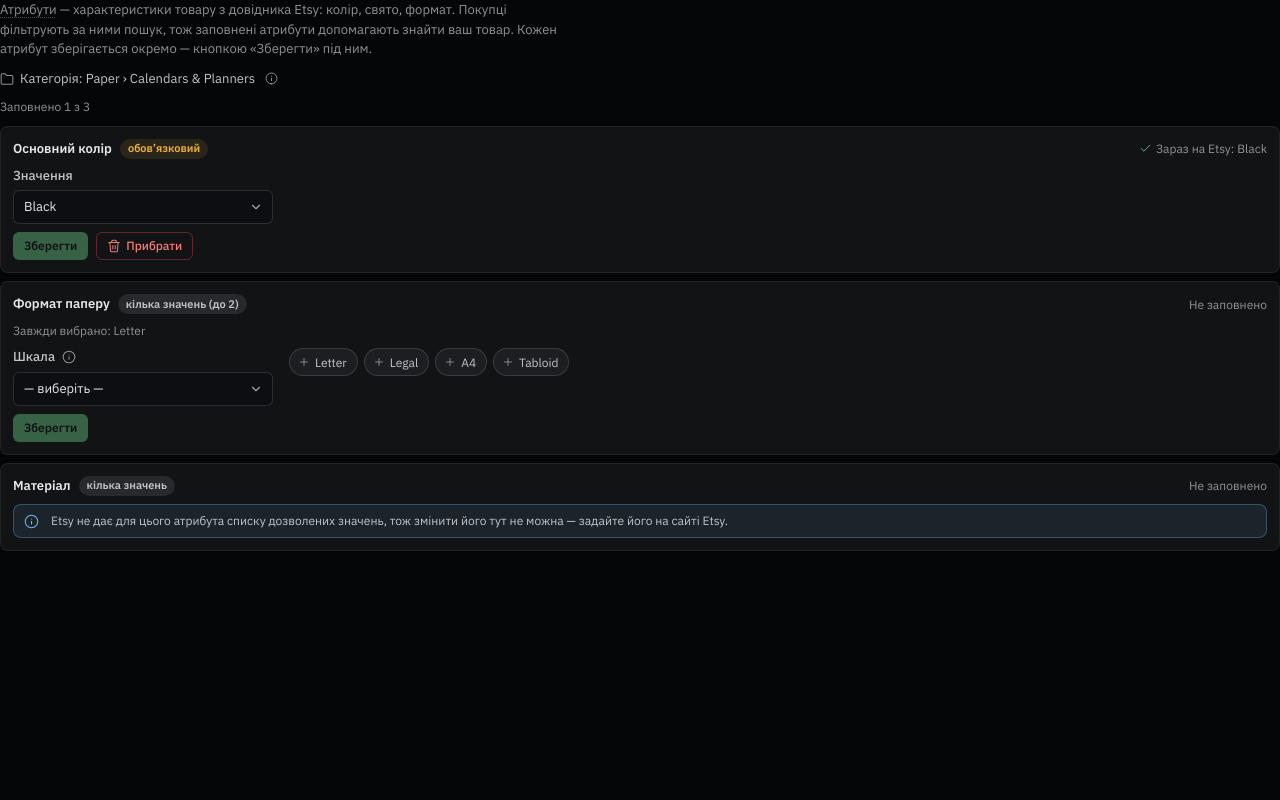
it: Атрибути › "Прибрати" asks first: cancel = nothing, confirm = removeAttribute
Click the button "Прибрати": (145, 246) [96,232,193,260]
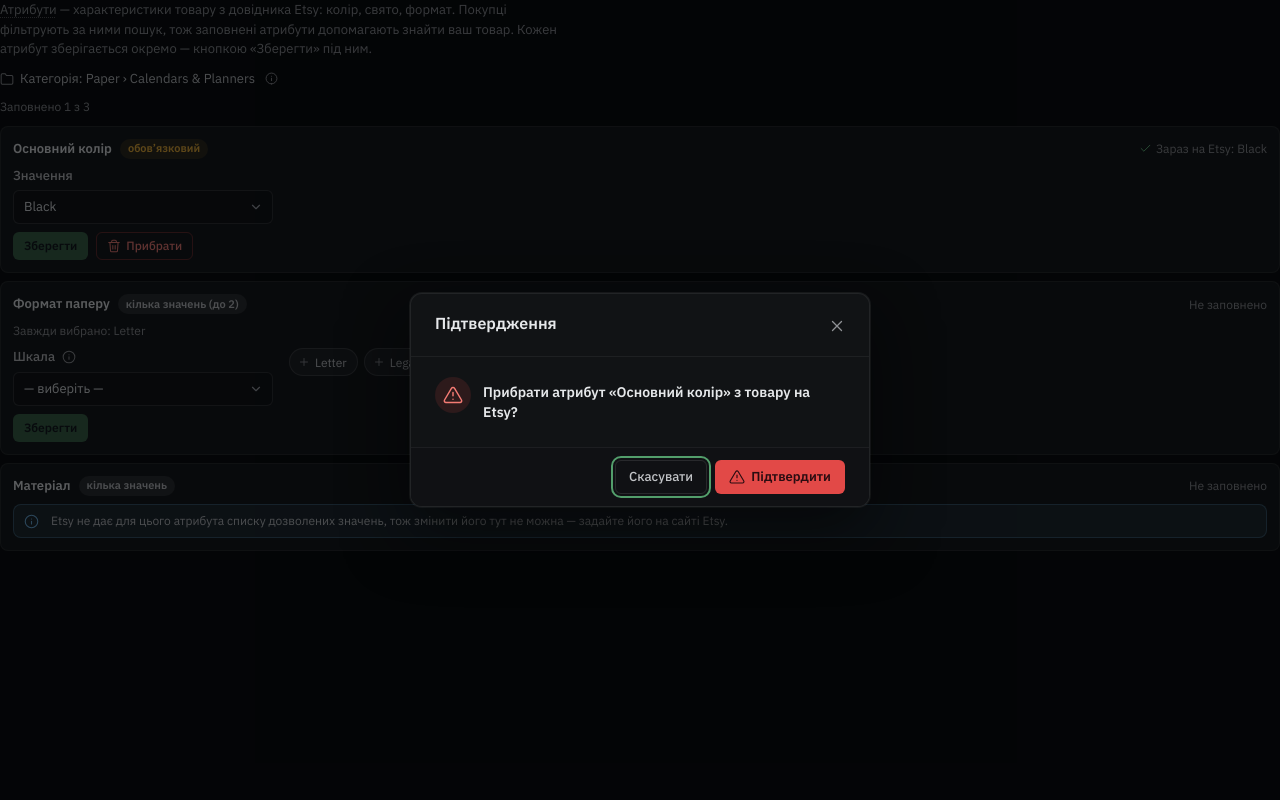
Click the button "Скасувати": (661, 477) [615,460,707,494]
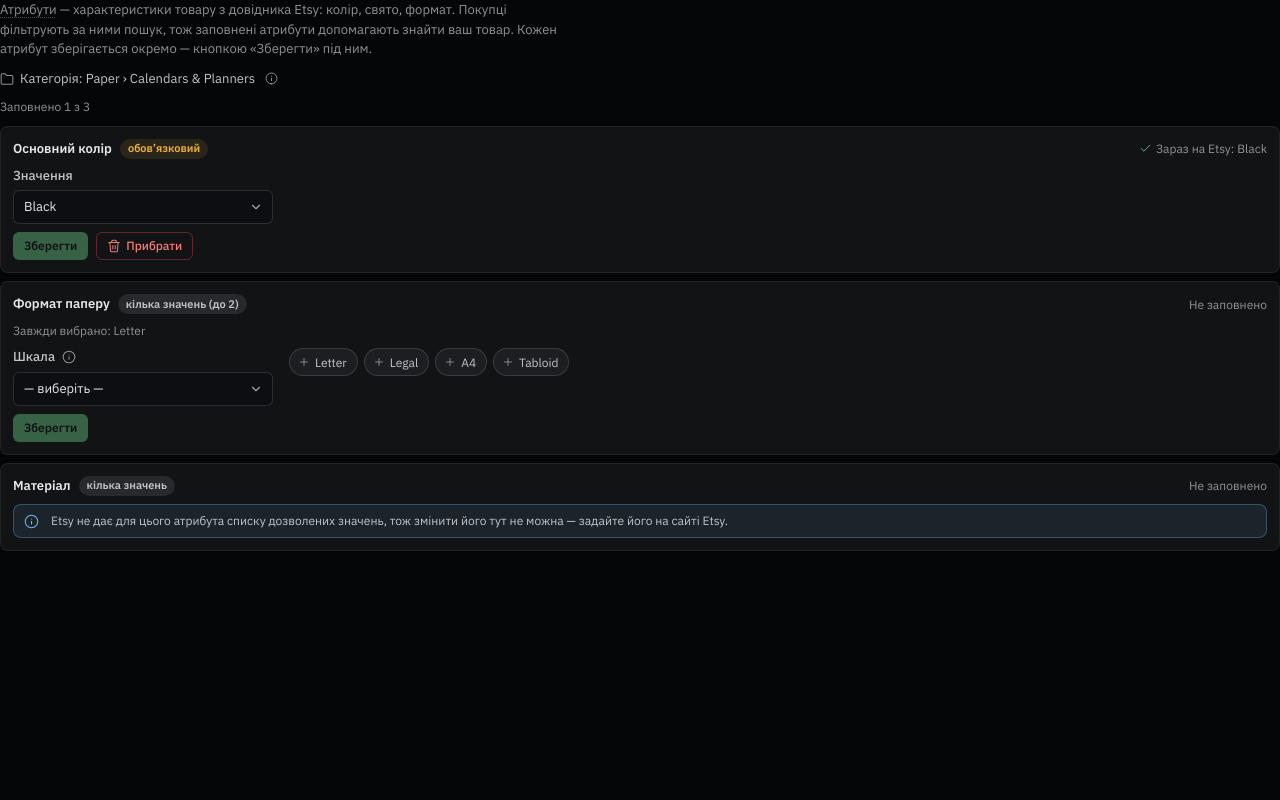
Click the button "Прибрати": (145, 246) [96,232,193,260]
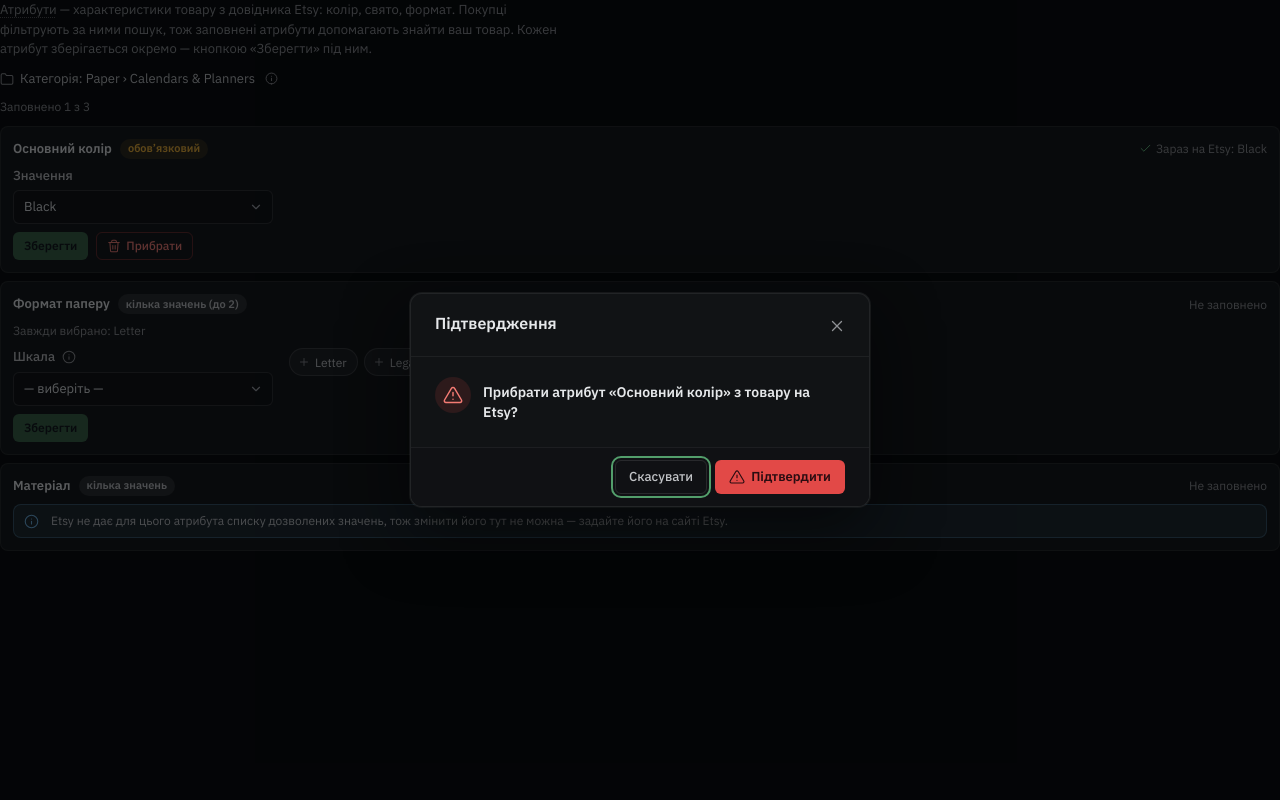
Click the button "Підтвердити": (780, 477) [715,460,845,494]
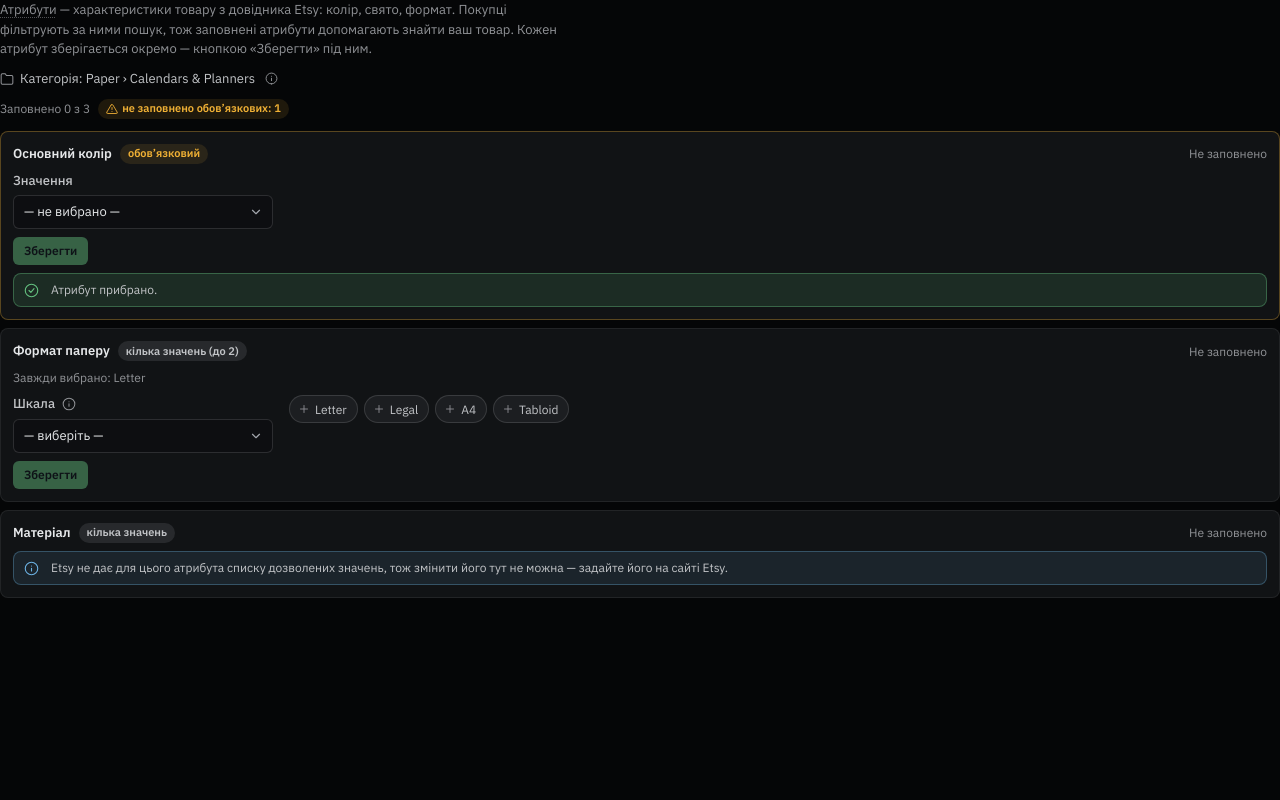
Expected: the element with test id "lm-attr-200" shows "Атрибут прибрано.", [51,282,157,297]
Expected: the button "Прибрати" is gone
